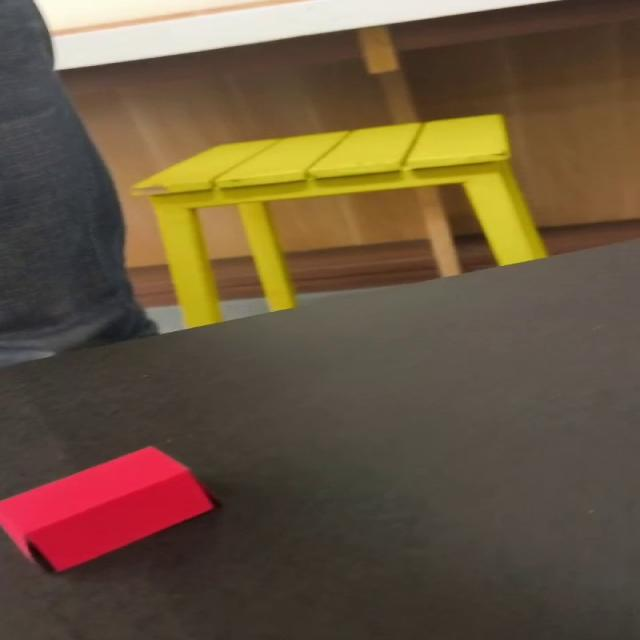red block: (0, 444, 216, 574)
